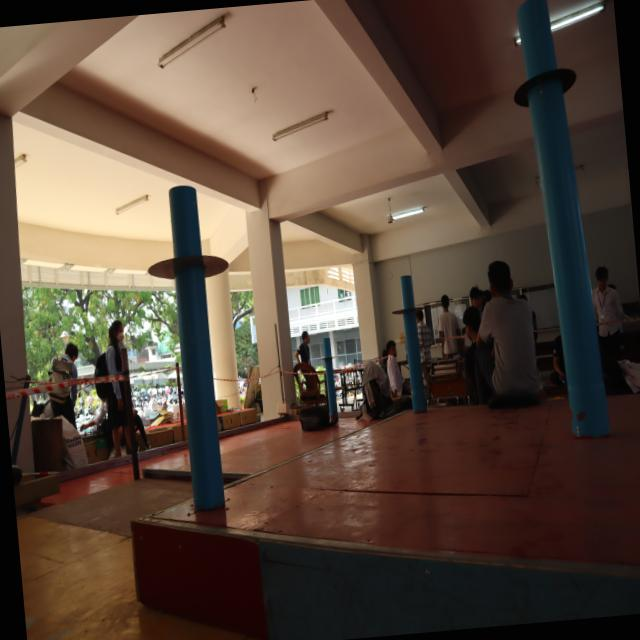pole: (136, 178, 244, 326), (491, 0, 588, 144), (387, 268, 433, 352), (320, 332, 338, 366)
